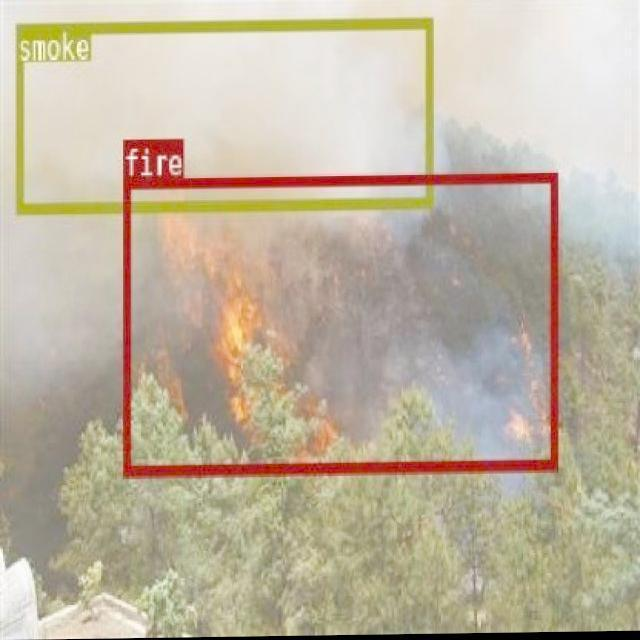Fire: (134, 158, 352, 458)
Smoke: (0, 0, 553, 480)
